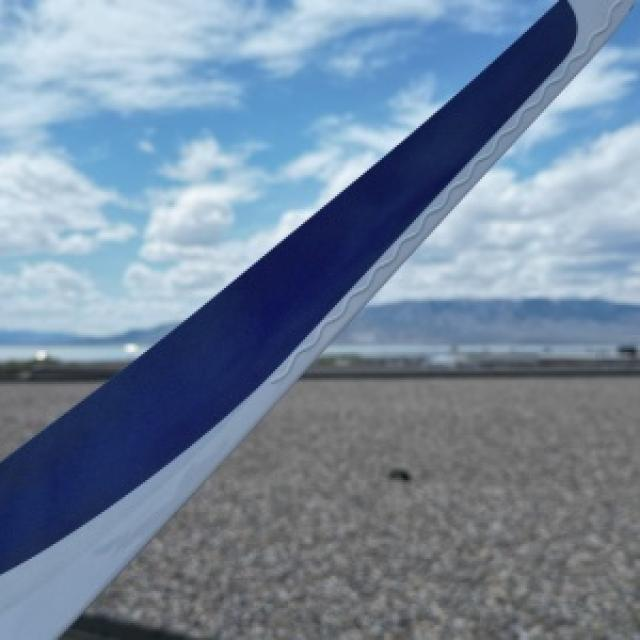healthy: (0, 0, 631, 638)
